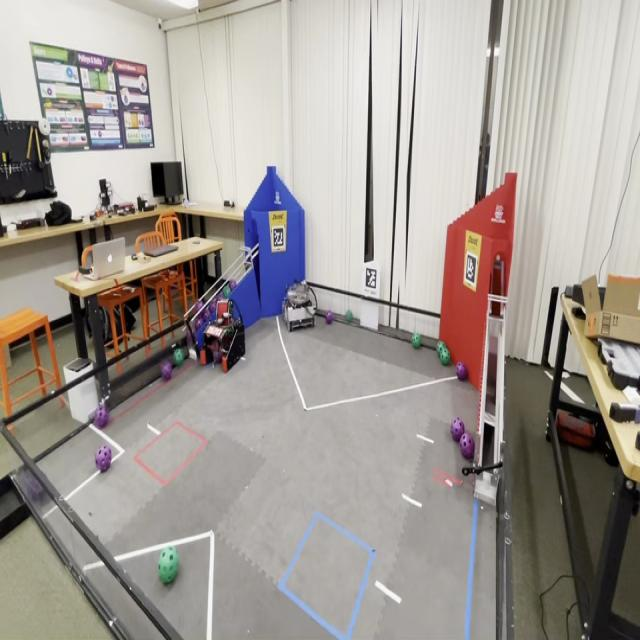artifact_green: (158, 547, 179, 584), (22, 471, 48, 500), (174, 349, 184, 366), (440, 348, 450, 365), (412, 332, 421, 349), (224, 325, 236, 337), (193, 300, 203, 314), (222, 285, 232, 299), (213, 350, 223, 363), (436, 341, 445, 355), (346, 310, 353, 322)
artifact_purple: (24, 471, 44, 500), (460, 433, 475, 459), (96, 445, 111, 471), (94, 403, 109, 429), (451, 418, 465, 442), (456, 362, 468, 381), (161, 361, 172, 381), (207, 300, 216, 317), (186, 328, 193, 348), (196, 316, 204, 331), (222, 285, 231, 298), (213, 351, 222, 363), (194, 300, 203, 312), (214, 292, 223, 304), (326, 311, 333, 324), (229, 279, 237, 290)
